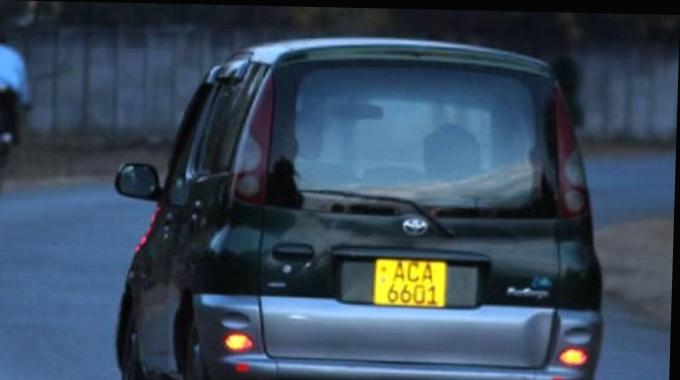License_Plate: (365, 251, 454, 319)
